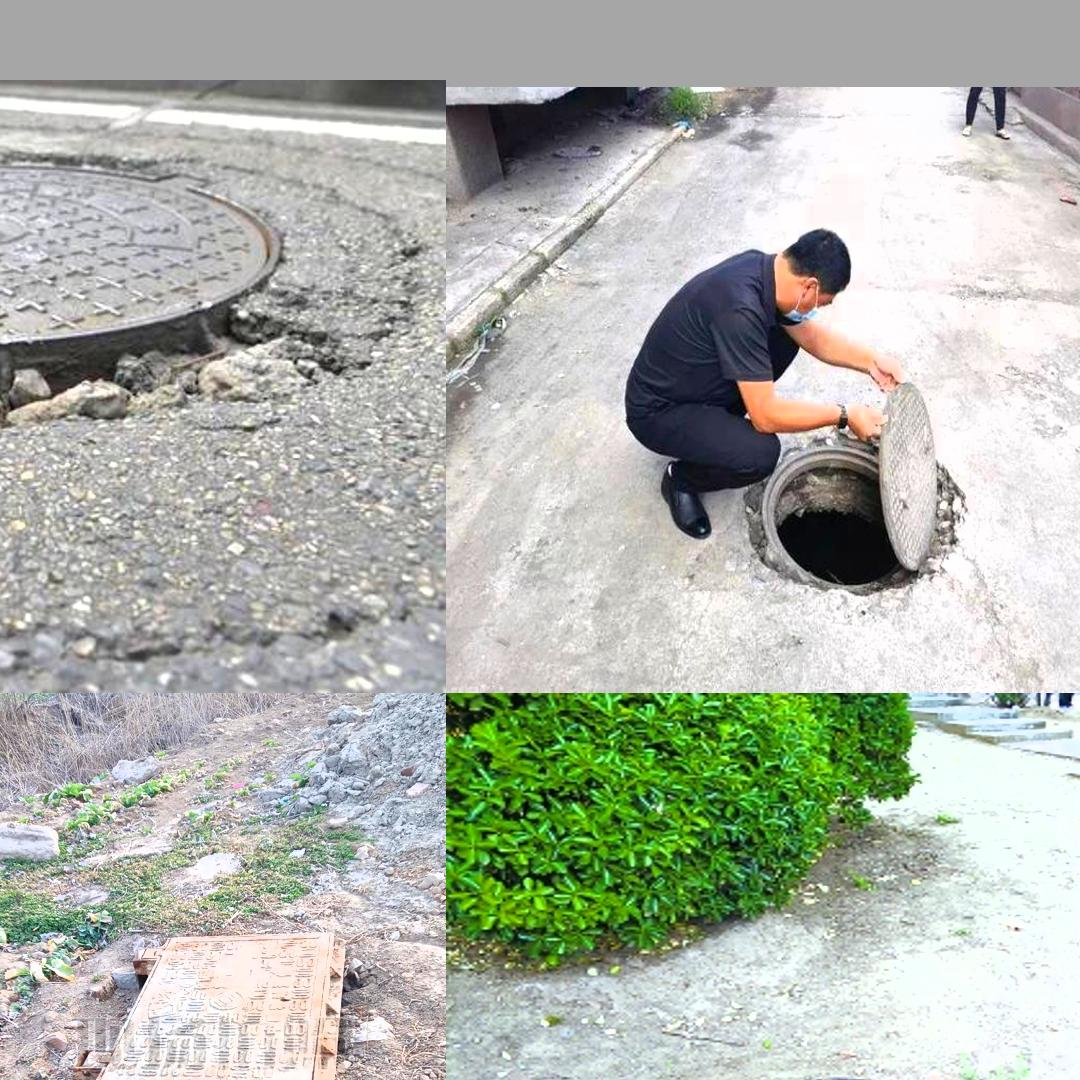circle: (0, 136, 415, 458), (702, 398, 984, 616), (72, 926, 355, 1080), (564, 1068, 1069, 1080)
